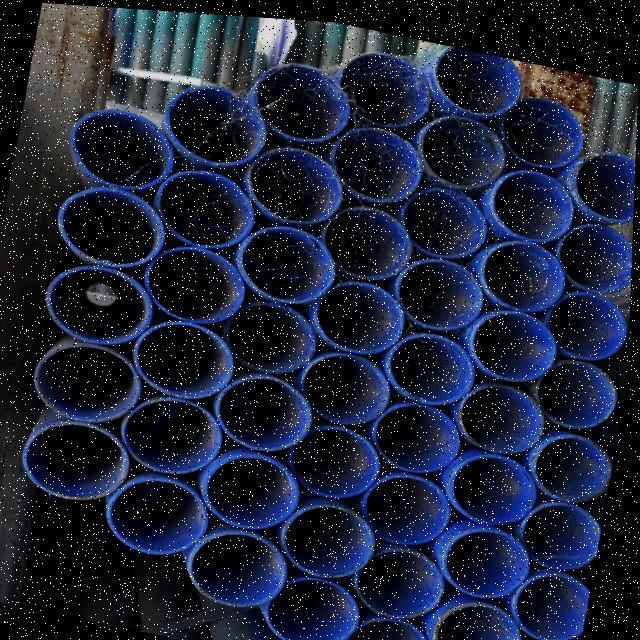pipe: (59, 182, 172, 279), (41, 334, 150, 424), (31, 409, 136, 500), (193, 519, 300, 607), (74, 103, 177, 194), (112, 467, 218, 553), (48, 261, 157, 343), (139, 321, 244, 403), (171, 84, 274, 167), (130, 387, 233, 470), (243, 217, 340, 305), (148, 245, 248, 326), (257, 61, 355, 142), (211, 449, 309, 530), (158, 165, 258, 244), (224, 372, 320, 452), (250, 146, 348, 224), (231, 295, 324, 376), (332, 124, 427, 202), (290, 498, 386, 575), (419, 106, 510, 187), (505, 86, 590, 172), (293, 418, 389, 493), (391, 327, 485, 403), (490, 160, 577, 242), (482, 231, 571, 311), (397, 249, 489, 326), (365, 466, 457, 543), (453, 443, 545, 520), (341, 48, 435, 123), (324, 203, 416, 279), (306, 348, 398, 424), (463, 375, 555, 451), (322, 274, 410, 353), (266, 569, 363, 640), (360, 540, 453, 614), (447, 520, 538, 595), (407, 183, 495, 260), (378, 398, 469, 471), (433, 41, 524, 114), (475, 303, 561, 379), (547, 280, 632, 355), (525, 488, 606, 564), (540, 351, 624, 423), (535, 426, 616, 499), (518, 564, 595, 637), (561, 216, 634, 291), (576, 147, 637, 219), (436, 592, 526, 640), (349, 611, 440, 640)
